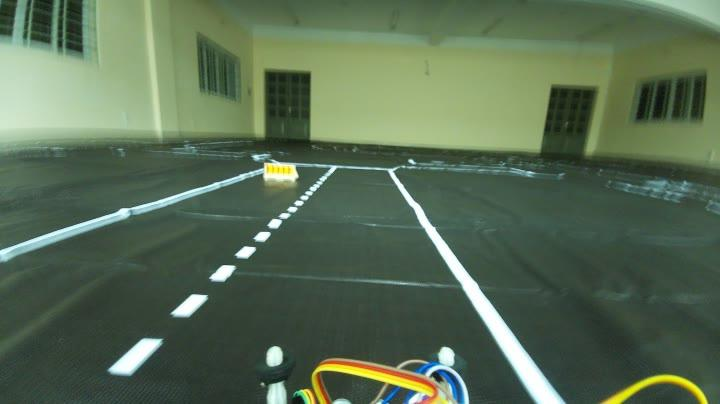roadblock: (258, 160, 308, 182)
